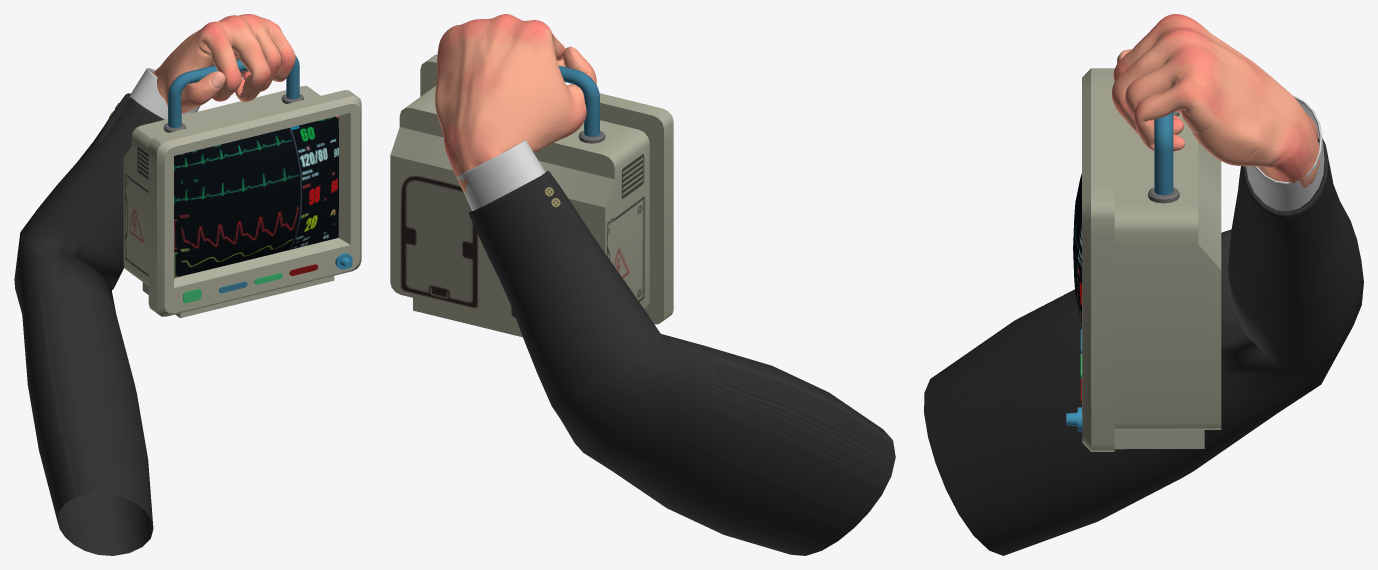
Rendered from Monitor 3.fbx.
The picture shows the model from 3 angles, left to right: view 1: azimuth 30°, elevation 25°; view 2: azimuth 150°, elevation 25°; view 3: azimuth 270°, elevation 25°; orthographic projection. The views are drawn at different scales.
Visible parts, largest first — view 1: ECG, Sleeve_only, Sphere.002; view 2: Sleeve_only, ECG, Sphere.002; view 3: Sleeve_only, ECG, Sphere.002.
Part boxes in pixels (box(x1,y1,x2,y2)): ECG: box(123, 55, 361, 318); Sleeve_only: box(14, 68, 200, 555); Sphere.002: box(152, 14, 295, 113); Sleeve_only: box(457, 140, 895, 555); ECG: box(390, 54, 673, 337); Sphere.002: box(435, 14, 596, 193); Sleeve_only: box(924, 95, 1363, 555); ECG: box(1066, 68, 1221, 451); Sphere.002: box(1111, 14, 1319, 187).
Bounding box in the file's own units: 5090 × 6360 × 3927.
